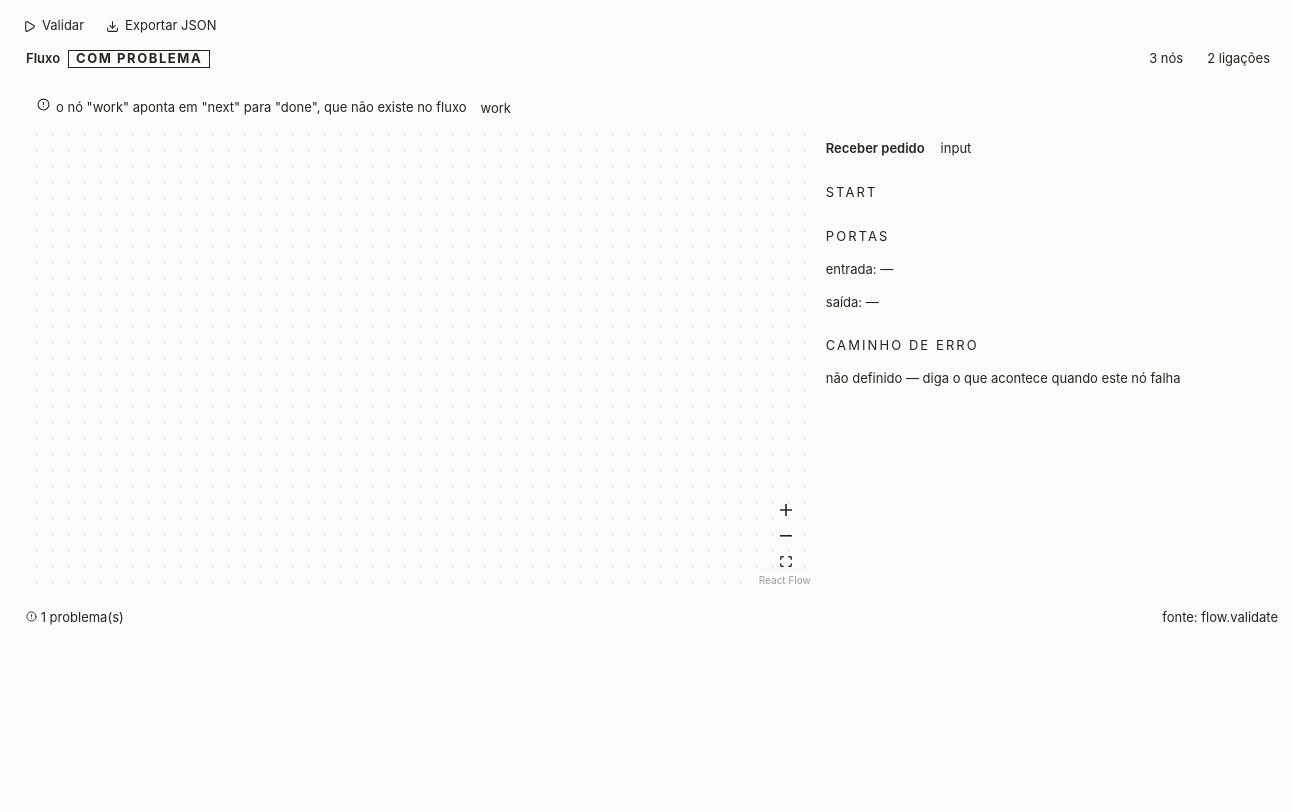
Scenario: a tela de Fluxo desenhando o flow.validate › clicar no chip do problema seleciona o nó no painel de propriedades
Click the button "work": (496, 109) [472,98,519,120]
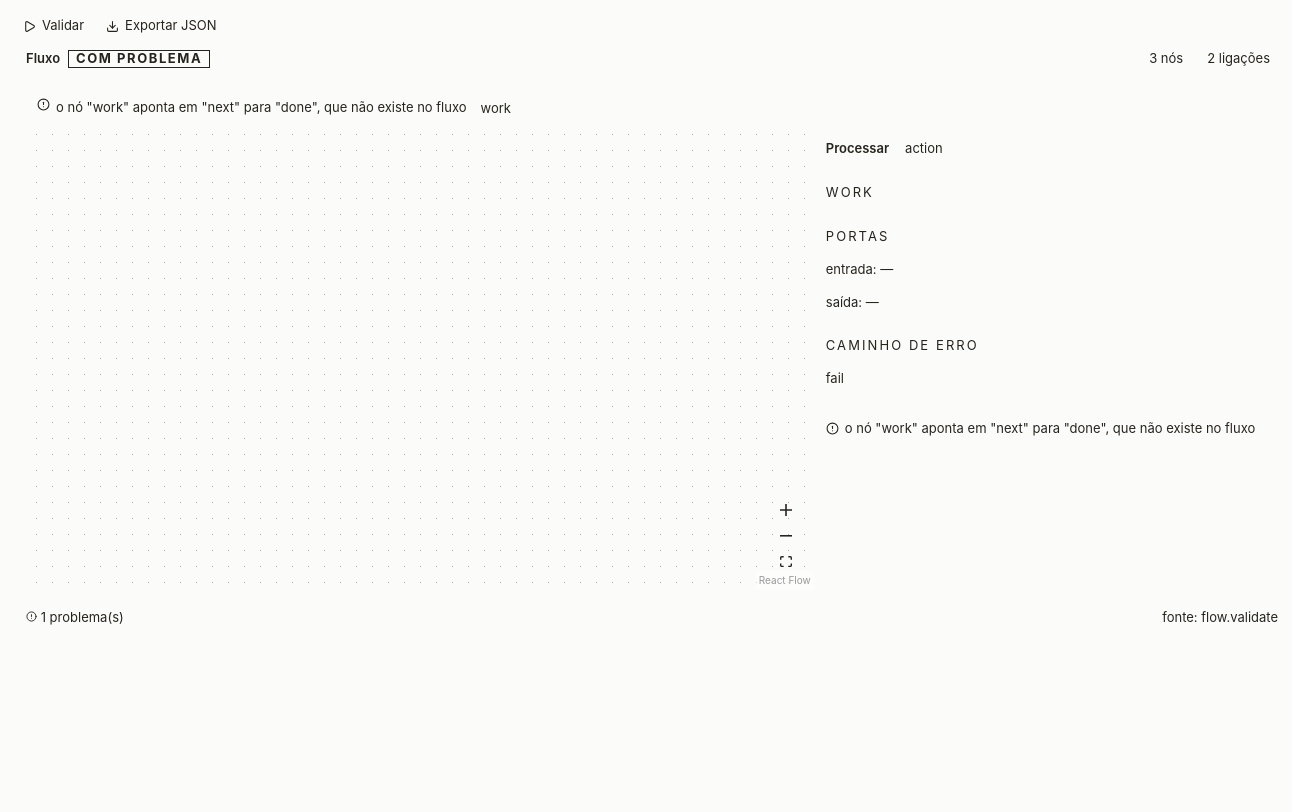
Check: the element with class "flow-props" shows "Processar", box [826,140,889,156]
Check: the element with class "flow-props" shows "fail", box [826,370,844,386]
